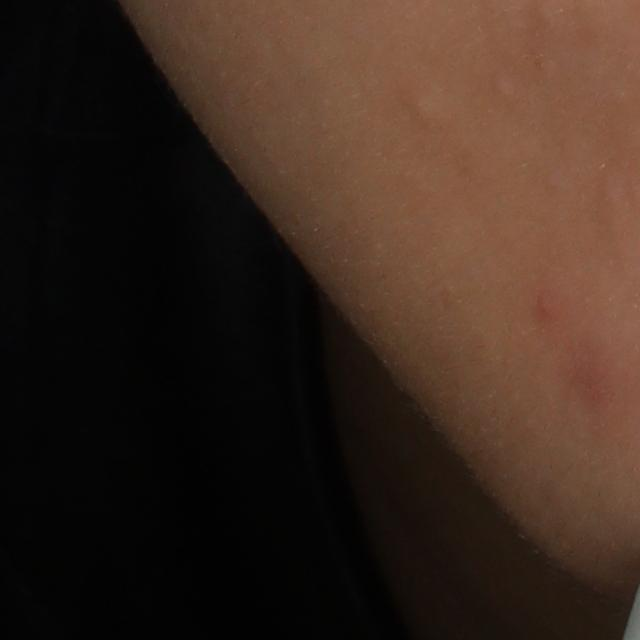comedo: (405, 83, 448, 124), (487, 66, 518, 101)
papule: (535, 297, 553, 321)
